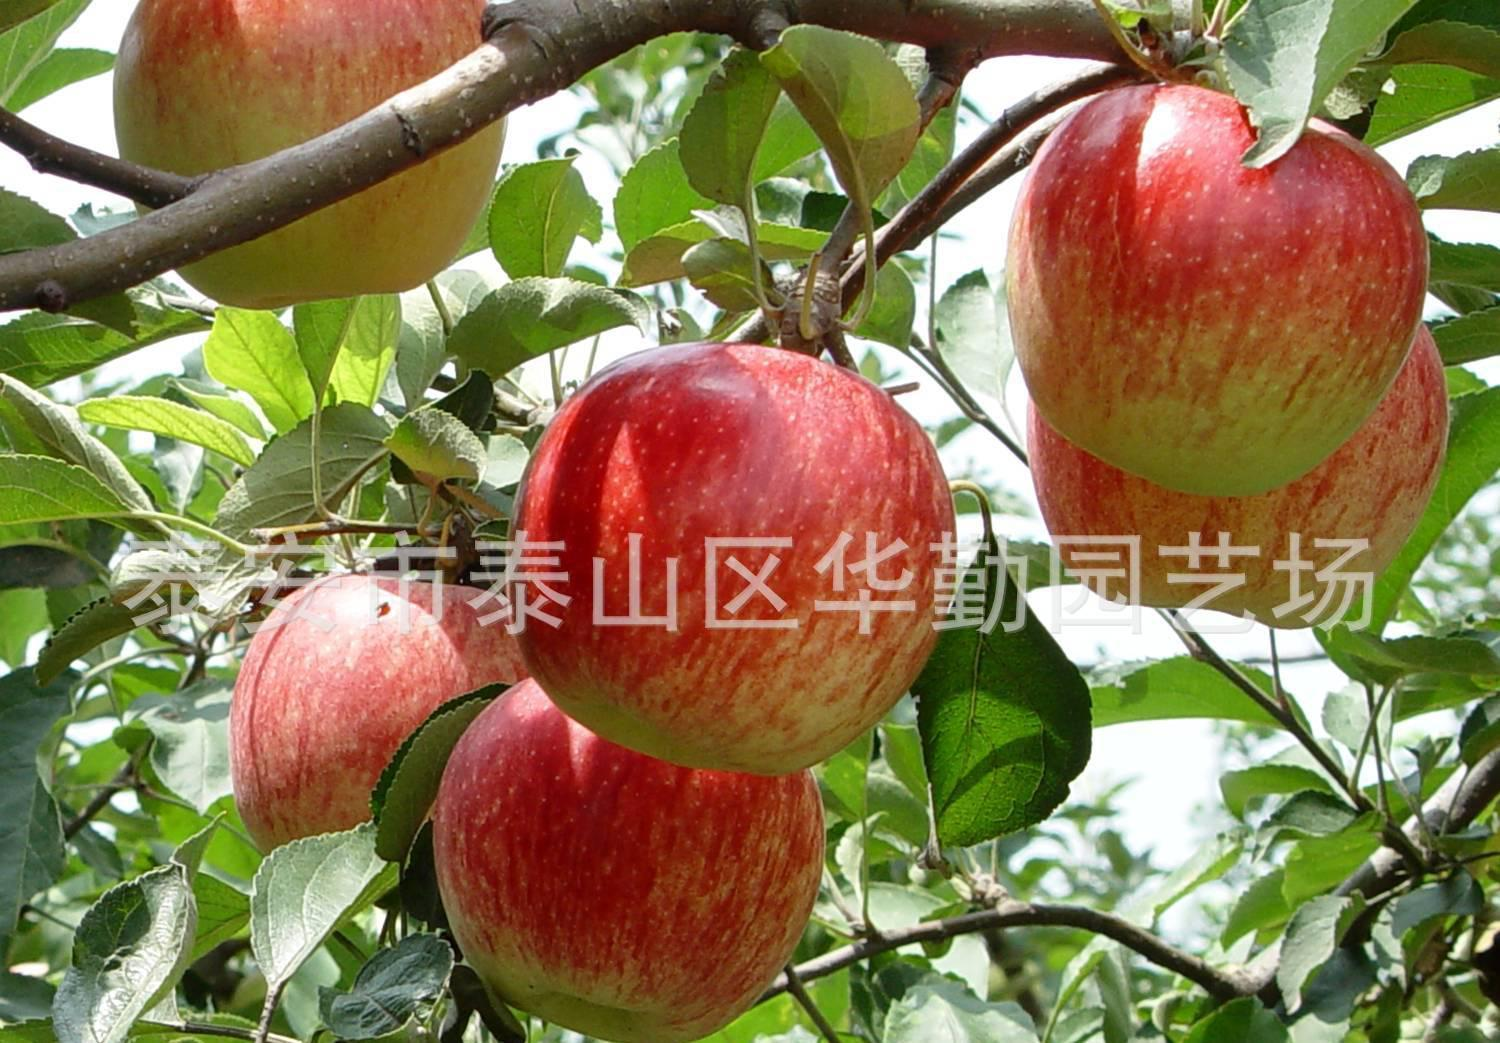apple: (506, 331, 956, 779), (1003, 72, 1428, 498), (426, 677, 829, 1036), (1024, 317, 1450, 630), (106, 2, 508, 312), (230, 563, 543, 861)
